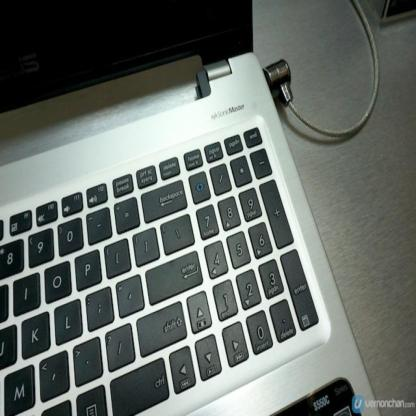board: (0, 0, 350, 416)
